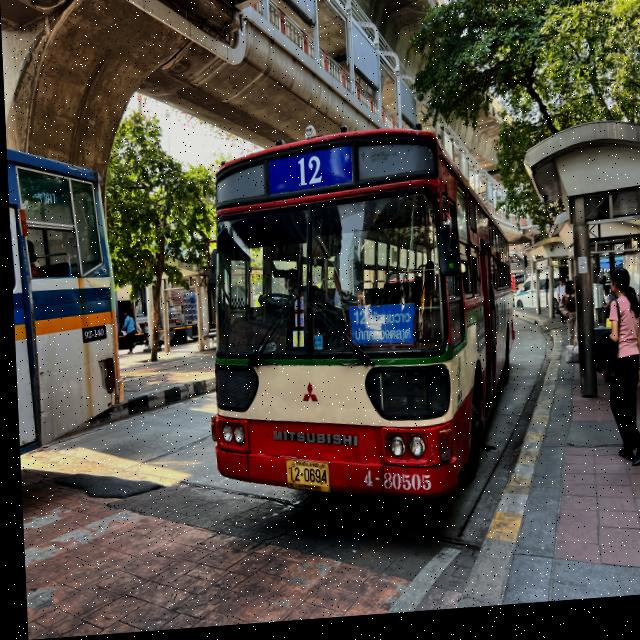BMTA-bus: (196, 127, 517, 522)
Bus-Line-Number: (261, 150, 355, 201)
Destination-Sign-Normal: (343, 306, 419, 362)
